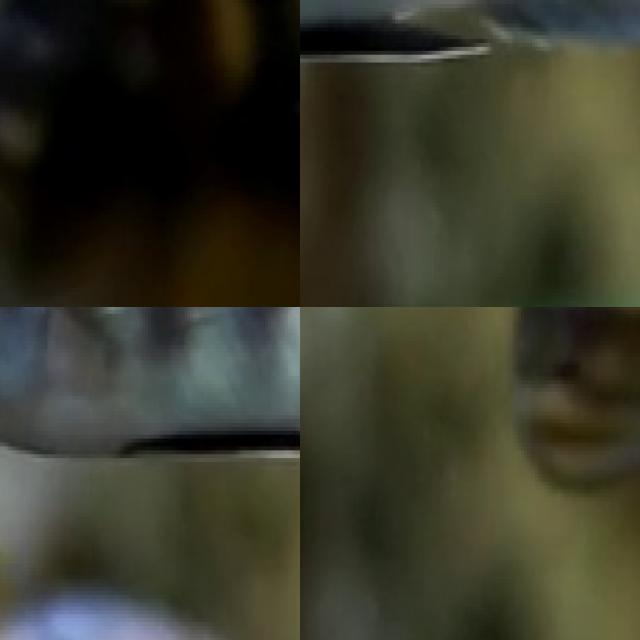fish: (0, 0, 300, 307), (300, 0, 640, 101)
